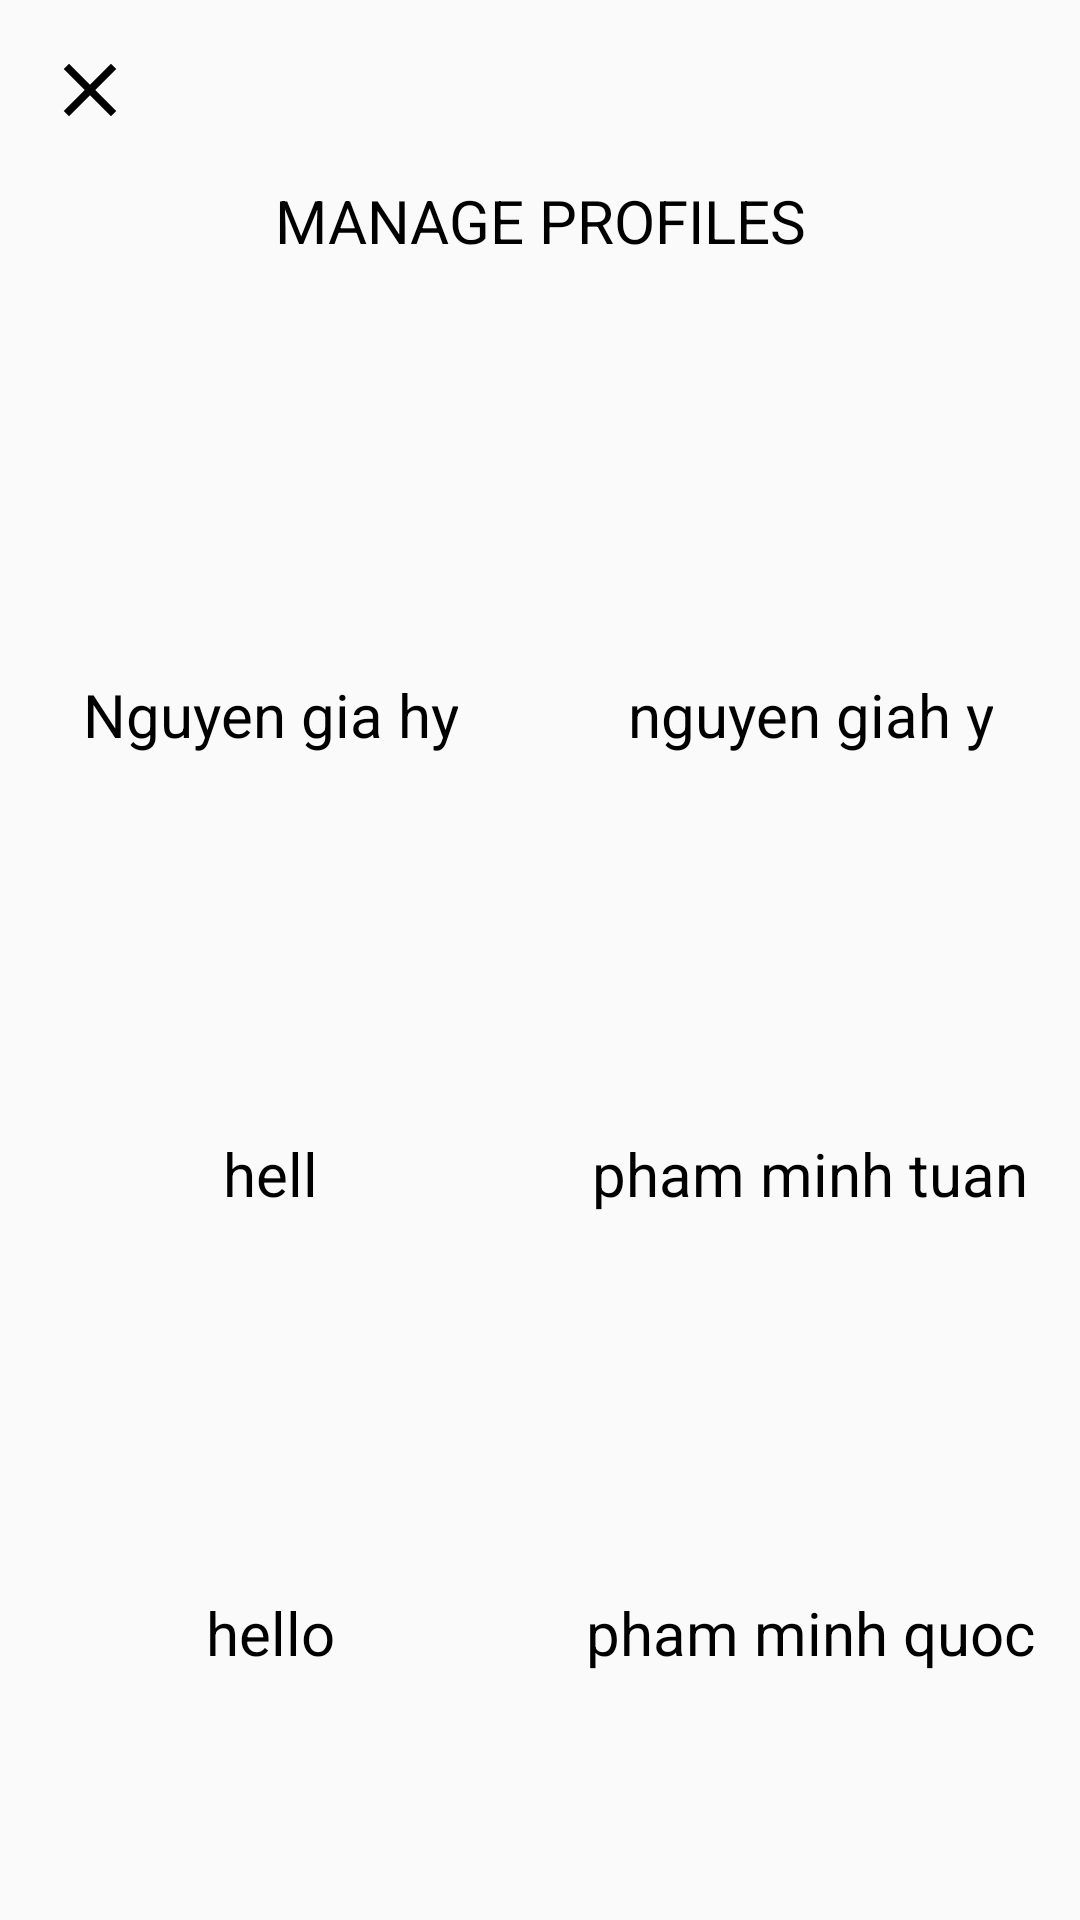

Named icons in this screenshot (1080x1920) and their bounding boxes, (x1, y1, x2, y2):
close appday: (64, 64, 116, 116)
